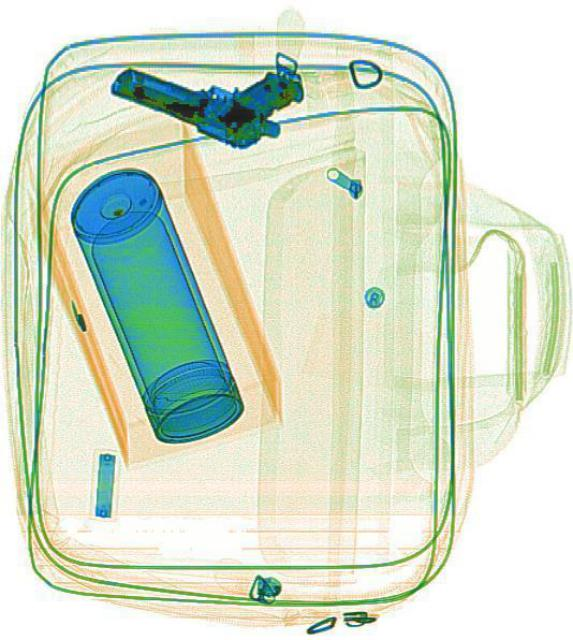Gun: (107, 16, 304, 162)
